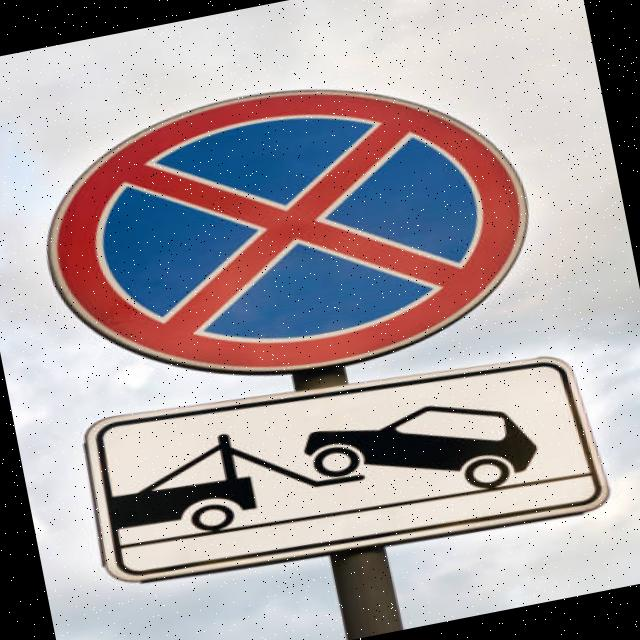no_parking: (4, 16, 571, 428)
